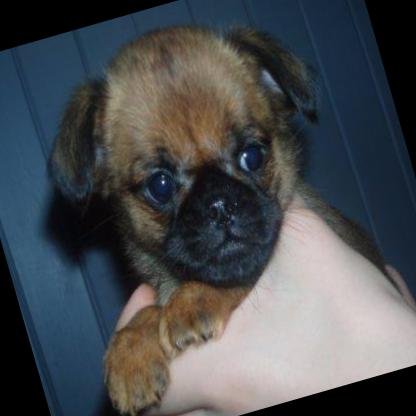Brabancon_griffon: (12, 0, 388, 416)
